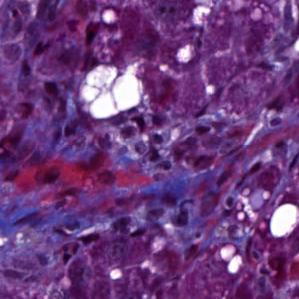ballooning: (76, 62, 146, 121)
